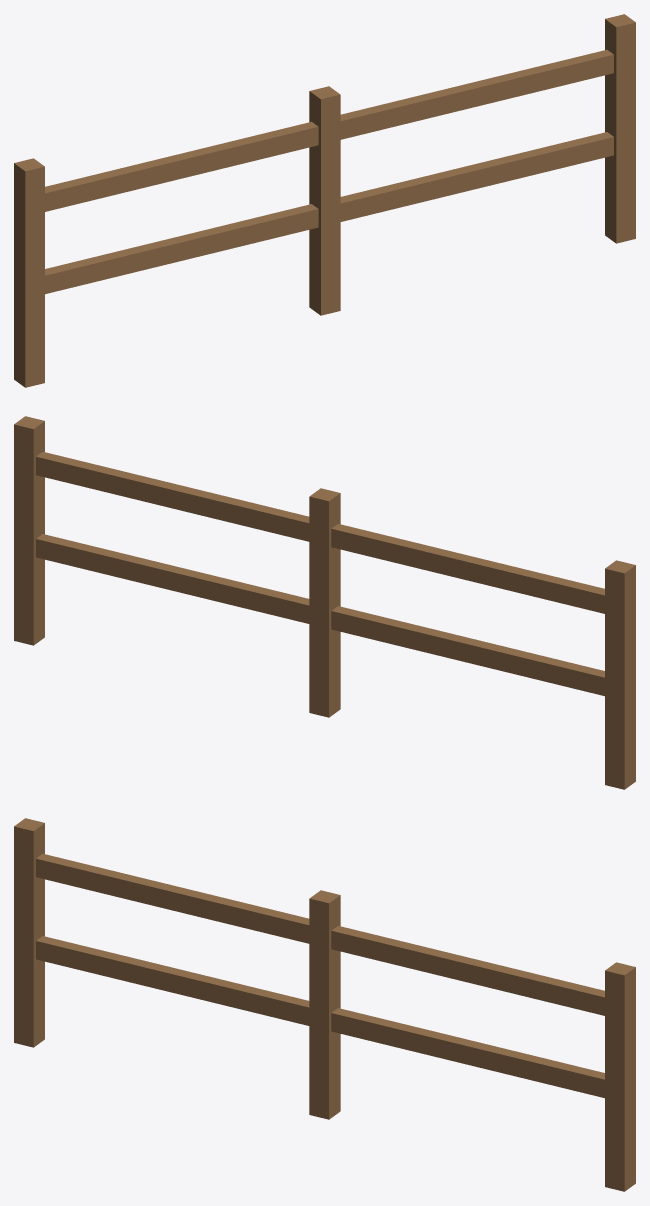
Rendered from fence.glb.
3 views of the same model, one above another, from view 1: azimuth 30°, elevation 25°; view 2: azimuth 150°, elevation 25°; view 3: azimuth 330°, elevation 25° (orthographic).
Parts seen in each view (by area): view 1: fence_lod0; view 2: fence_lod0; view 3: fence_lod0.
Boxes of the visible parts, bbox=[...] form: fence_lod0: bbox=[14, 14, 635, 387]; fence_lod0: bbox=[14, 416, 635, 789]; fence_lod0: bbox=[14, 818, 635, 1191].
Size of what is drawn, in the model's own units: 3.1 by 1.05 by 0.1.
